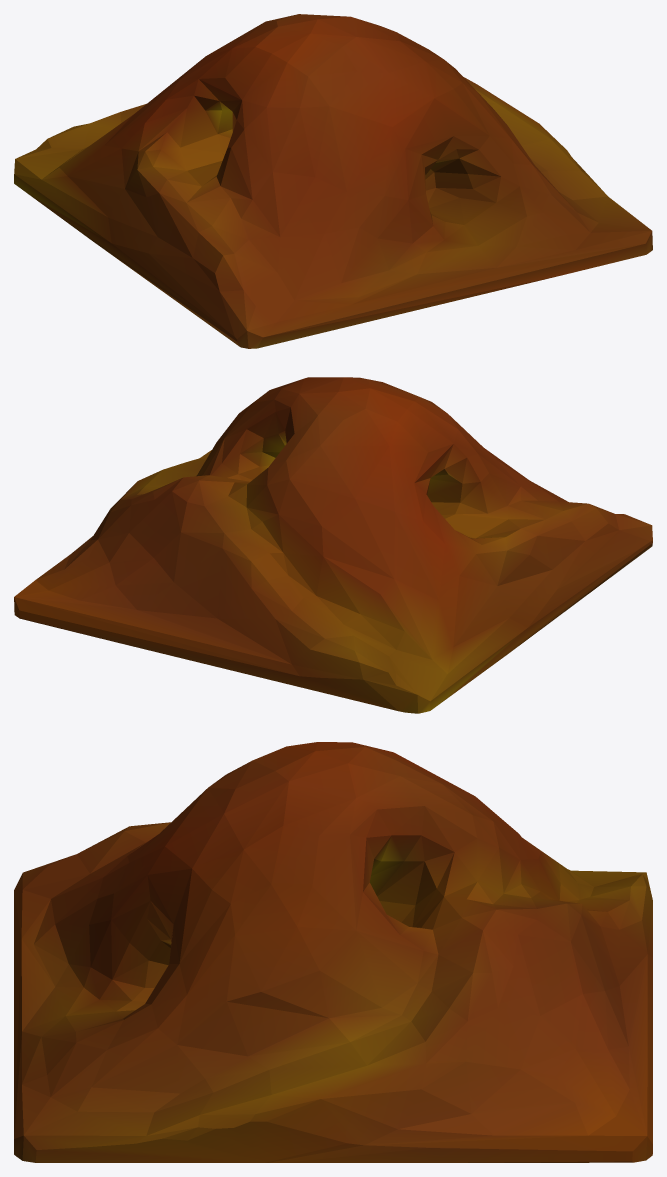
File: anthill.fbx
3 views of the same model, one above another, from view 1: azimuth 30°, elevation 25°; view 2: azimuth 150°, elevation 25°; view 3: azimuth 270°, elevation 25° (orthographic). The views are drawn at different scales.
Visible parts, largest first — view 1: hill; view 2: hill; view 3: hill.
Part boxes in pixels (x1,y1,x2,y2): hill: [14, 14, 652, 348]; hill: [14, 377, 652, 713]; hill: [14, 742, 652, 1162].
Bounding box in the file's own units: 1 × 1 × 0.4464.
